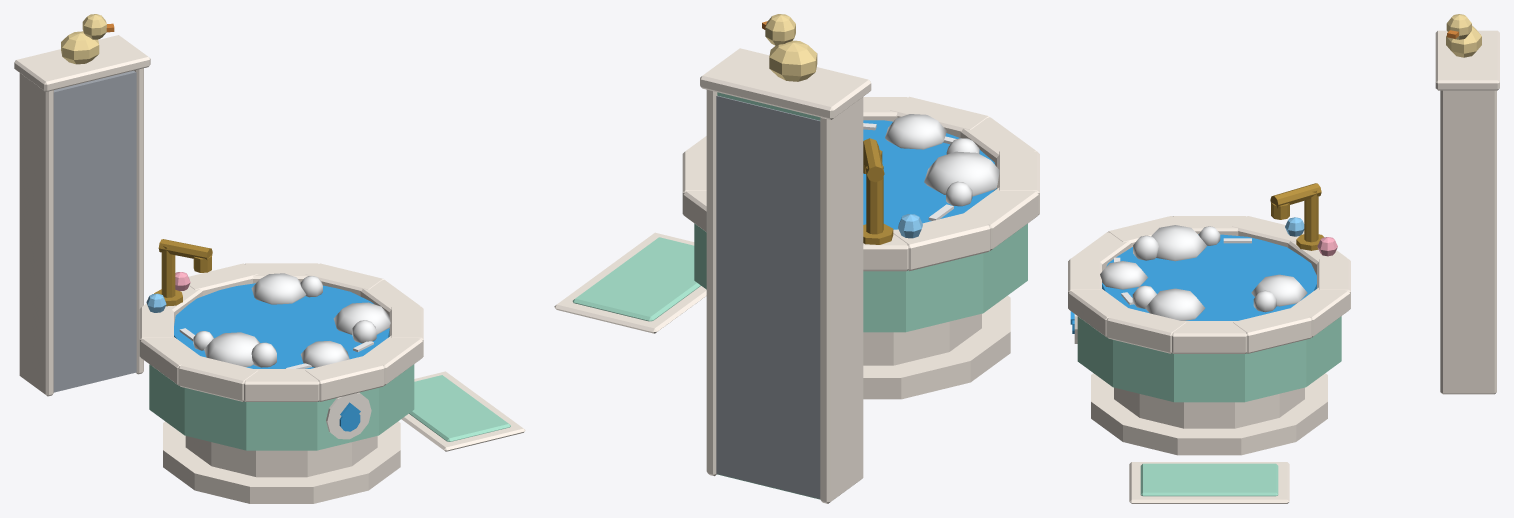
Rendered from CleanACat_Station_WashStandSam.fbx.
The picture shows the model from 3 angles, left to right: view 1: azimuth 30°, elevation 25°; view 2: azimuth 150°, elevation 25°; view 3: azimuth 270°, elevation 25°; orthographic projection. The views are drawn at different scales.
Parts seen in each view (by area): view 1: CleanACat_Station_WashStandSam, CleanACat_Station_WashStandSam_Barrier, CleanACat_Station_WashStandSam_Water, CleanACat_Station_WashStandSam_Foam; view 2: CleanACat_Station_WashStandSam, CleanACat_Station_WashStandSam_Barrier, CleanACat_Station_WashStandSam_Water, CleanACat_Station_WashStandSam_Foam; view 3: CleanACat_Station_WashStandSam, CleanACat_Station_WashStandSam_Water, CleanACat_Station_WashStandSam_Foam.
Boxes of the visible parts, bbox=[...] form: CleanACat_Station_WashStandSam: bbox=[14, 14, 525, 503]; CleanACat_Station_WashStandSam_Barrier: bbox=[53, 70, 136, 392]; CleanACat_Station_WashStandSam_Water: bbox=[174, 283, 389, 368]; CleanACat_Station_WashStandSam_Foam: bbox=[193, 273, 390, 367]; CleanACat_Station_WashStandSam: bbox=[554, 14, 1039, 503]; CleanACat_Station_WashStandSam_Barrier: bbox=[716, 95, 820, 498]; CleanACat_Station_WashStandSam_Water: bbox=[863, 120, 996, 229]; CleanACat_Station_WashStandSam_Foam: bbox=[885, 114, 999, 206]; CleanACat_Station_WashStandSam: bbox=[1068, 14, 1499, 503]; CleanACat_Station_WashStandSam_Water: bbox=[1102, 234, 1316, 320]; CleanACat_Station_WashStandSam_Foam: bbox=[1100, 225, 1307, 320].
Bounding box in the file's own units: 5.4 × 5.7 × 6.18.
1 material, 1 textured.
